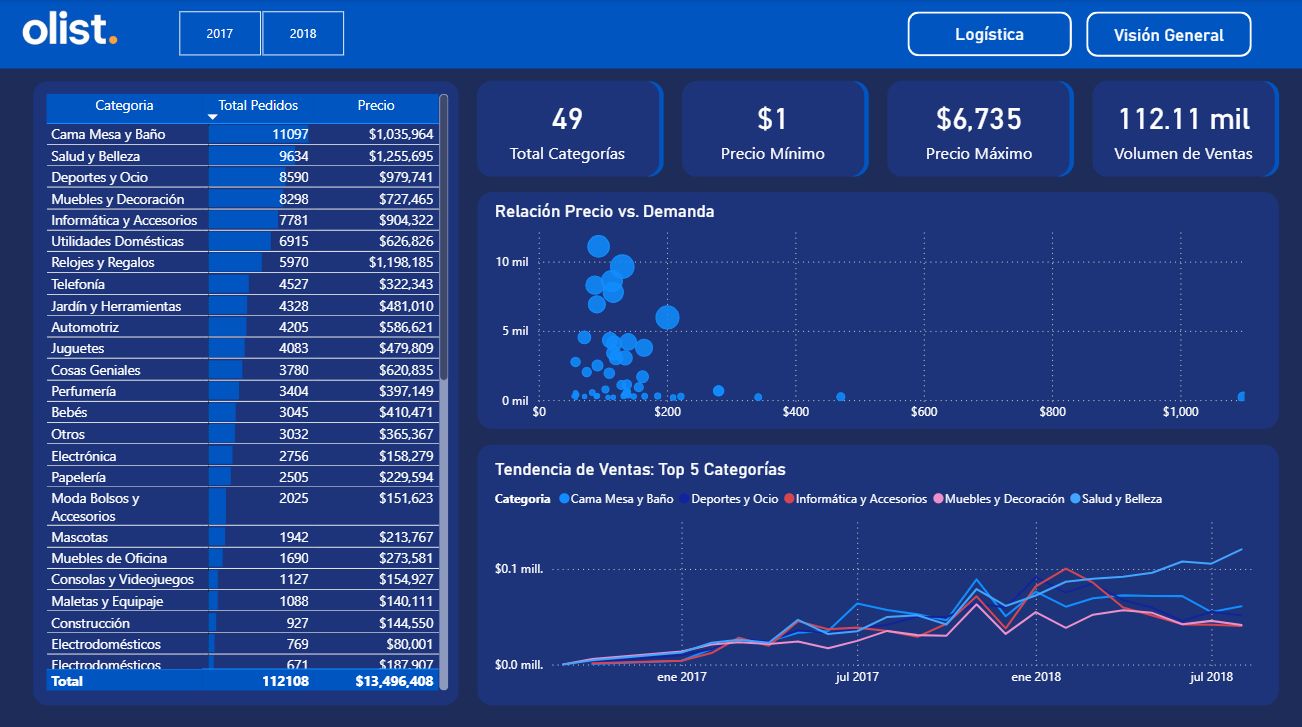

This screenshot's page, from the dashboard's own definition file:
{"tool":"powerbi","page":{"name":"Productos","canvas":[1280,720],"ordinal":3},"visuals":[{"type":"slicer","fields":{"Values":["Calendario.time_id.Variación.Jerarquía de fechas.Año"]},"box":[149.3,5.3,212,57.3],"z":0},{"type":"actionButton","box":[890.7,12,161.3,44],"z":1},{"type":"actionButton","box":[1066.7,12.5,162.5,44.4],"z":2},{"type":"tableEx","fields":{"Values":["Productos.categoria_prod","Medidas.Total Pedidos","Sum(Pedidos.precio)"]},"box":[39.3,88.3,406.1,595.1],"z":3},{"type":"scatterChart","title":"Relación Precio vs. Demanda","fields":{"X":["Avg(Pedidos.precio)"],"Y":["Medidas.Total Pedidos"],"Category":["Productos.categoria_prod"],"Size":["Sum(Pedidos.precio)1"]},"box":[480.6,197.2,763.9,226.4],"z":4},{"type":"lineChart","title":"Tendencia de Ventas: Top 5 Categorías","fields":{"Category":["Calendario.time_id.Variación.Jerarquía de fechas.Año","Calendario.time_id.Variación.Jerarquía de fechas.Mes"],"Y":["Sum(Pedidos.precio)"],"Series":["Productos.categoria_prod"]},"box":[480.6,451.4,763.9,231.9],"z":5},{"type":"card","fields":{"Values":["Count(Productos.categoria_prod)"]},"box":[467.5,78.5,179.1,95.7],"z":6},{"type":"card","fields":{"Values":["Max(Pedidos.precio)"]},"box":[871.2,78.5,180.4,95.7],"z":7},{"type":"card","fields":{"Values":["CountNonNull(Pedidos.product_id)"]},"box":[1072.4,78.5,179.1,95.7],"z":8},{"type":"card","fields":{"Values":["Min(Pedidos.precio)"]},"box":[668.7,78.5,180.4,95.7],"z":9}]}

Visuals, with their boxes in screenshot pixels (x1, y1, x2, y2), scaled from the page's 1280x720 canvas onto the 1302x727 screenshot:
slicer - Calendario.time_id.Variación.Jerarquía de fechas.Año: [152,5,368,63]
actionButton: [906,12,1070,57]
actionButton: [1085,13,1250,57]
tableEx - Productos.categoria_prod x Medidas.Total Pedidos: [40,89,453,690]
"Relación Precio vs. Demanda" scatterChart: [489,199,1266,428]
"Tendencia de Ventas: Top 5 Categorías" lineChart: [489,456,1266,690]
card - Count(Productos.categoria_prod): [476,79,658,176]
card - Max(Pedidos.precio): [886,79,1070,176]
card - CountNonNull(Pedidos.product_id): [1091,79,1273,176]
card - Min(Pedidos.precio): [680,79,864,176]
